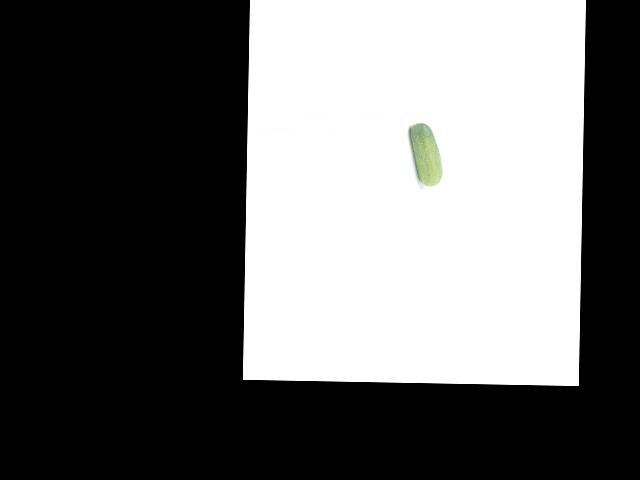cucumber: (408, 122, 443, 186)
